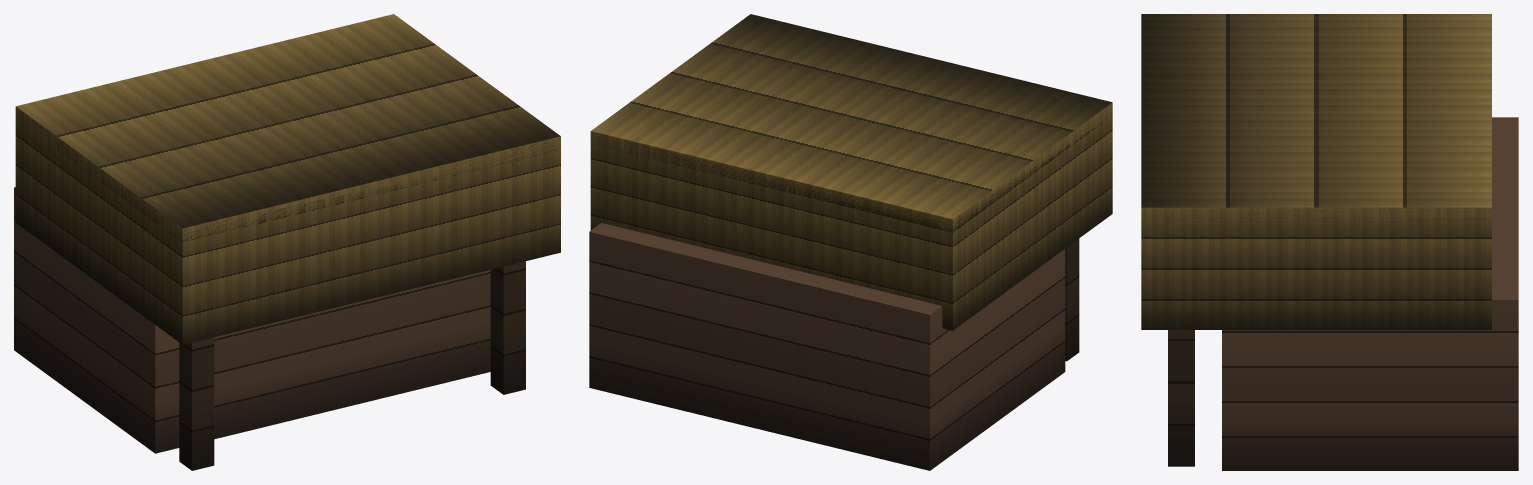
The model's file is stable.glb.
3 renders of one model, left to right at view 1: azimuth 30°, elevation 25°; view 2: azimuth 150°, elevation 25°; view 3: azimuth 270°, elevation 25°, orthographic. The views are drawn at different scales.
Visible parts, largest first — view 1: stable; view 2: stable; view 3: stable.
Part boxes in pixels (<box>): stable: <box>14,14,560,470</box>; stable: <box>589,14,1112,470</box>; stable: <box>1141,14,1518,470</box>.
Bounding box in the file's own units: 1.7 × 1.1 × 1.4.
1 material, 1 textured.
